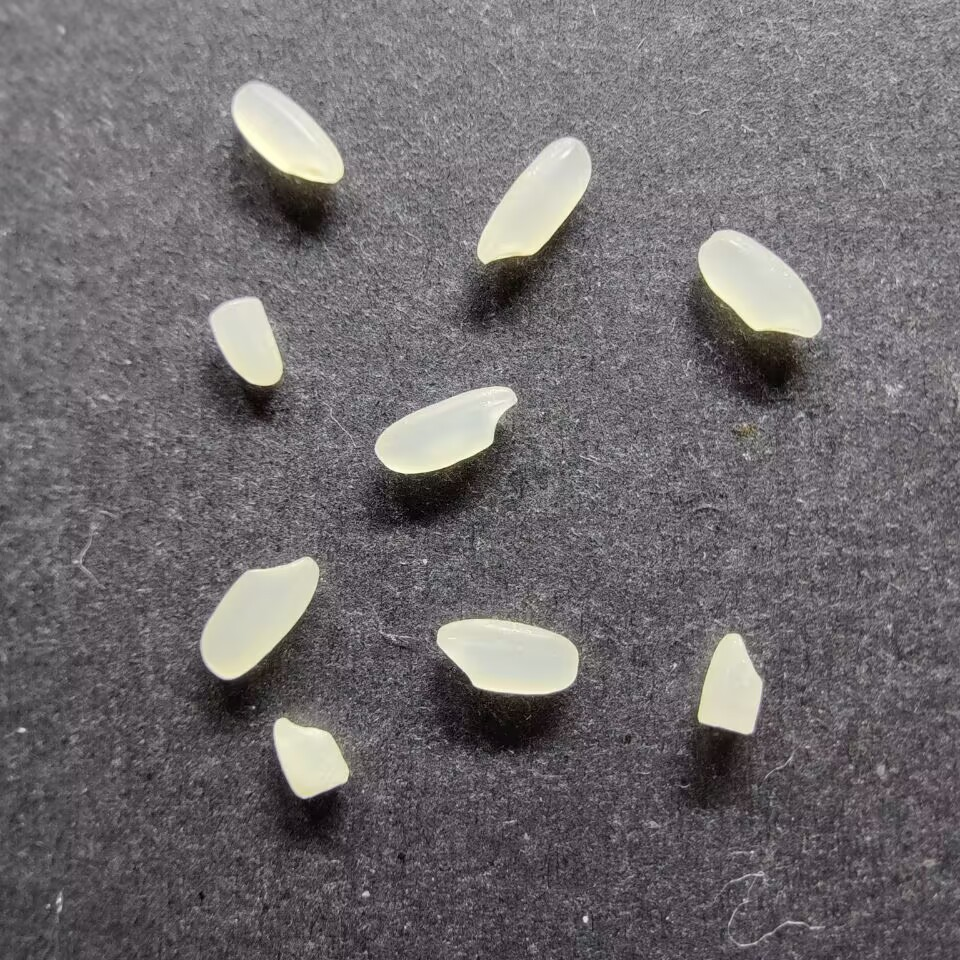broken: (697, 631, 764, 736), (208, 296, 283, 387), (271, 714, 350, 800)
rice: (199, 556, 320, 681), (476, 136, 593, 265), (696, 228, 824, 338), (373, 385, 518, 474), (231, 80, 345, 185), (435, 617, 578, 695)
